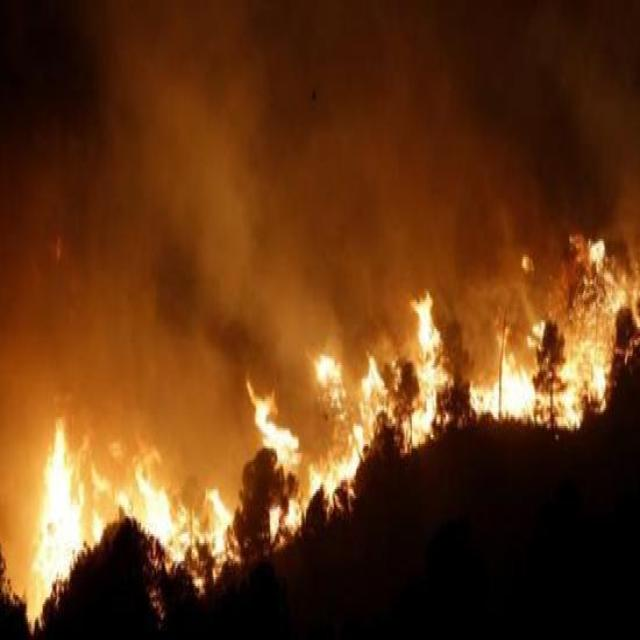fire: (254, 286, 630, 524), (29, 399, 252, 620)
